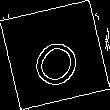O_NE: (23, 22, 87, 88)
